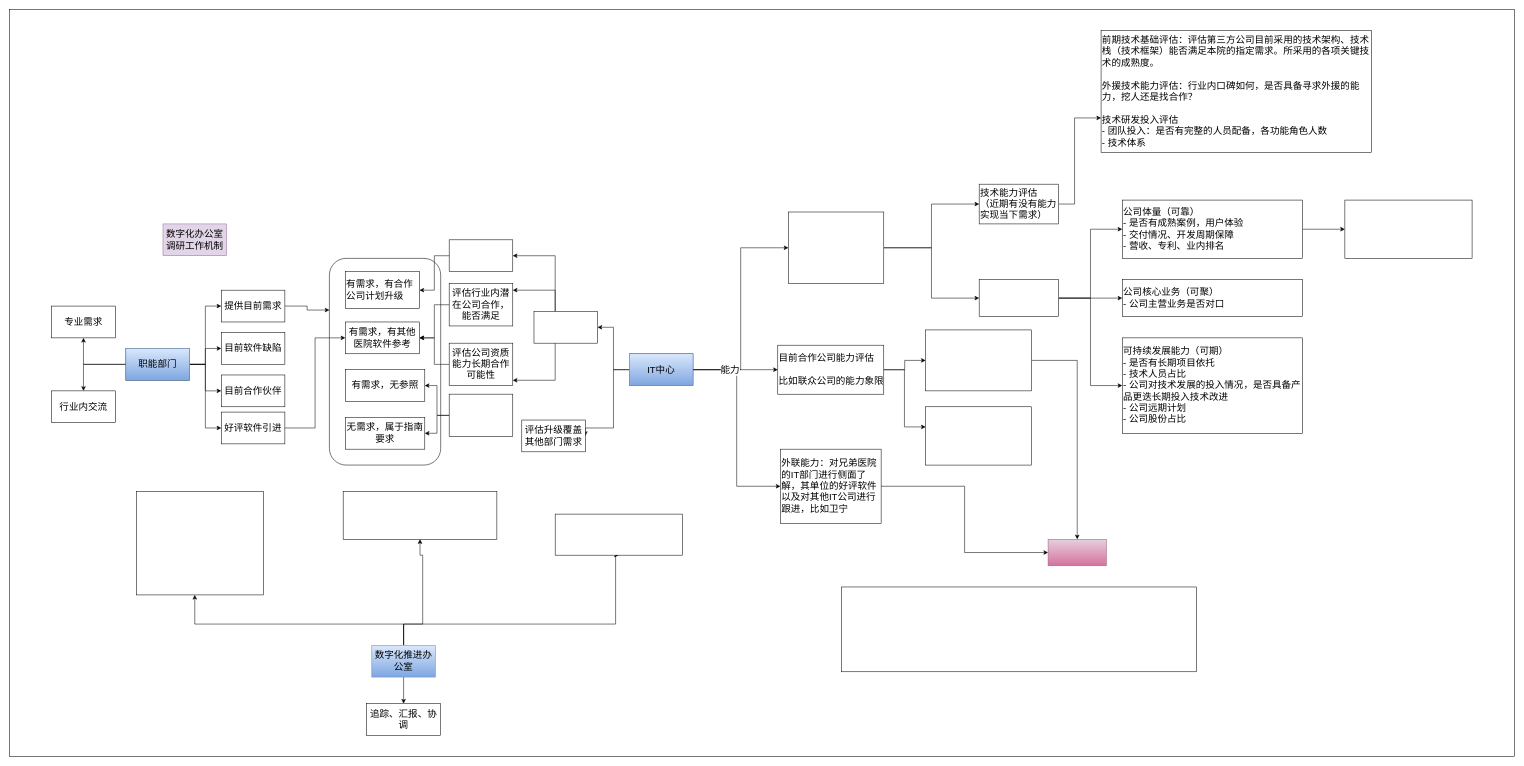
Some shapes in this 1524 by 766 pixel diagram are drawn without their labels. Here are the shapes that lost their labels. From the top down, the centre of each, then its label:
At (836,247): "公司调研能力：对职能部门推荐的市面上的公司 进行评估".
At (1408,229): "使用评估需要用户端来体验 比如现场使用".
At (481,255): "评估现有合作单位能否对接".
At (1019,298): "合作风险评估 （远期有没有长期合作可能）".
At (565,327): "提供需求解决建设性意见".
At (978,360): "熟悉了解全院系统合作单位的能力，能做什么，不能做什么，具有什么优势和劣势".
At (481,415): "提供公司库的潜在匹配公司".
At (978,435): "可以基于目前合作伙伴的技术能力匹配职能部门的转型需求提出建设性意见".
At (420,515): "- 根据职能部门和IT反馈，确认目前职能部门的信息化状态，总结现状，汇报".
At (618,534): "- 组织各方沟通，协调，推动 - 职能部门、IT、第三方公司".
At (200,543): "介绍项目背景 项目目的与意义 项目内容 指南的基本条目评估 - 对医院发展的长远意义，提升管理质量，高质量发展 - 为职能部门的工作抛砖引玉 -".
At (1077,552): "公司能力库".
At (1018,629): "曾经的案例，既有的经验，你们能做到什么程度，能不能定制化的做到我们的需求，首先看一下你们有没有这个能力。最好是有数据效果演示".
